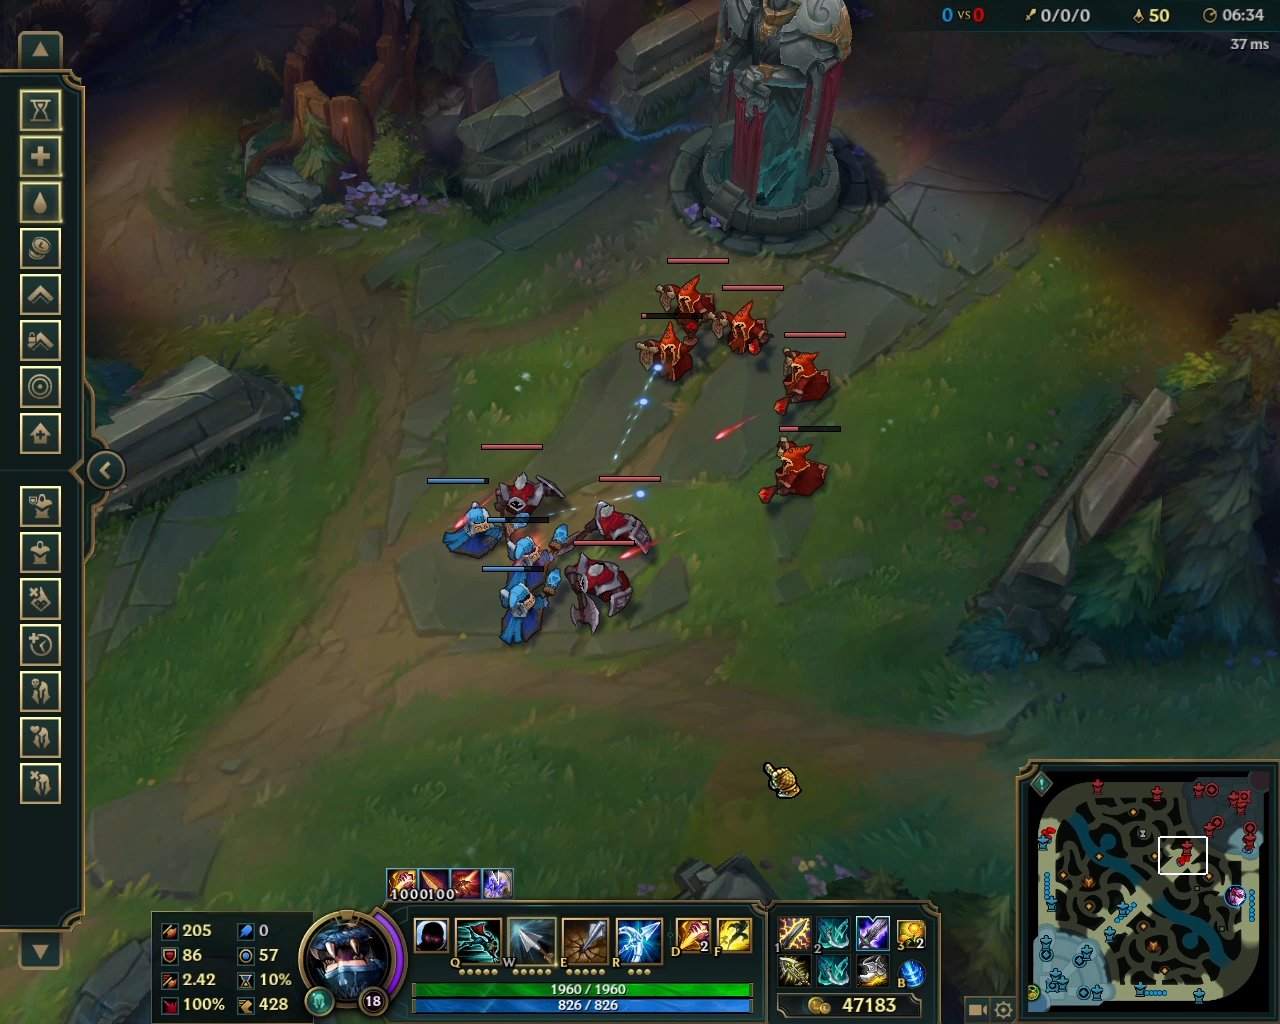EnemyMinion: (560, 474, 665, 563), (485, 444, 567, 537), (560, 538, 638, 634), (755, 424, 844, 506), (769, 330, 851, 418), (706, 283, 786, 360), (654, 257, 729, 334), (630, 311, 708, 386)
Tower: (681, 1, 876, 245)
